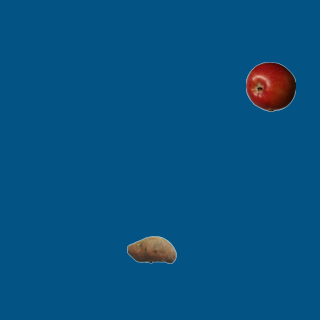Apple Braeburn: (245, 61, 295, 111)
Potato Sweet: (126, 224, 176, 274)
